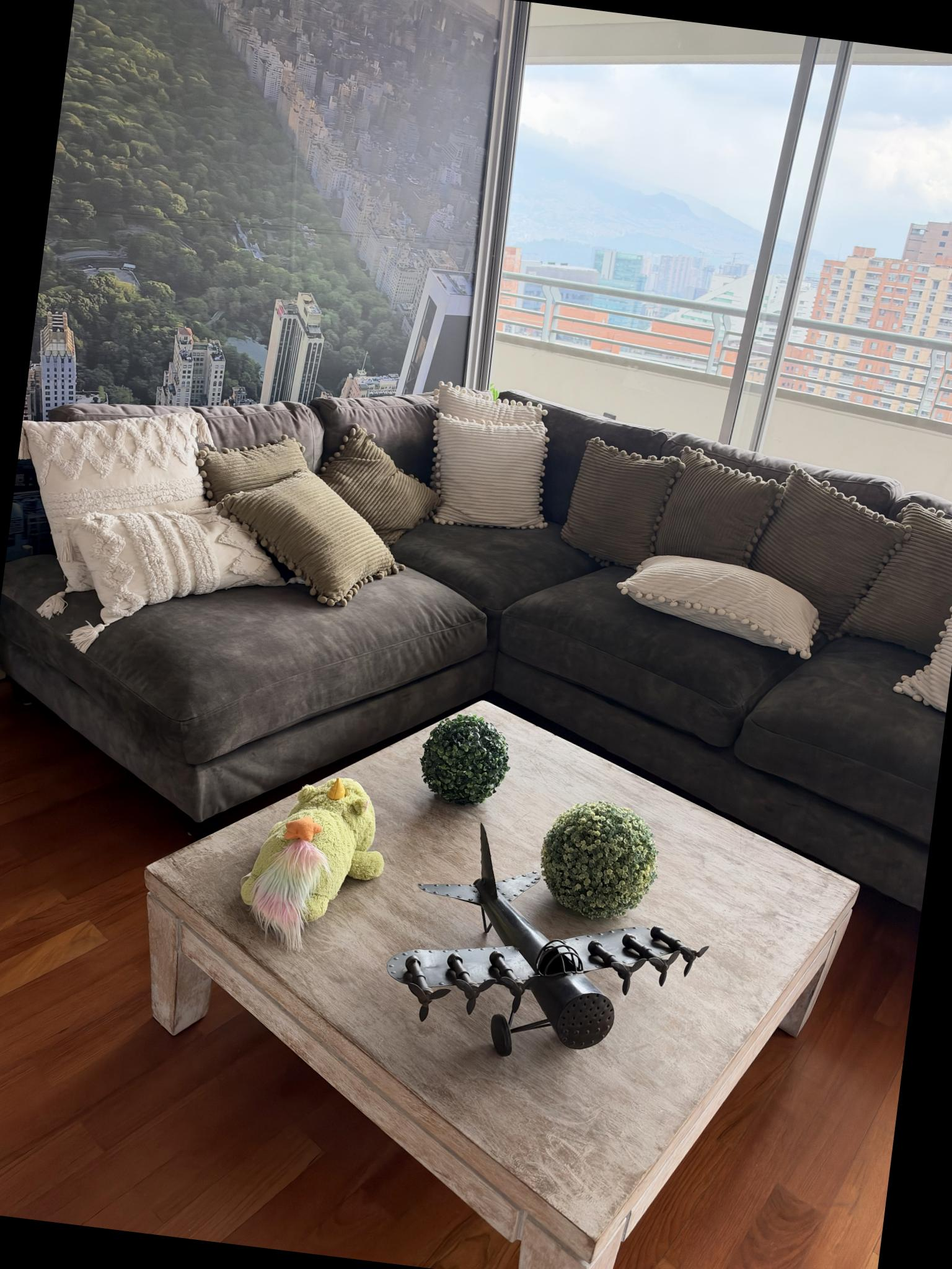peluche_martin: (230, 764, 396, 963)
